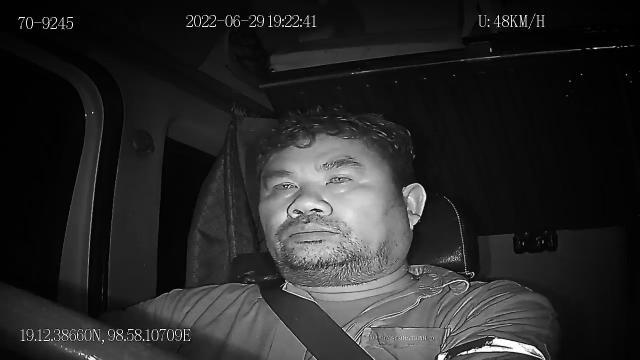SafeDriving: (262, 170, 304, 198), (321, 162, 360, 190)
Seatbelt: (230, 262, 378, 360)
